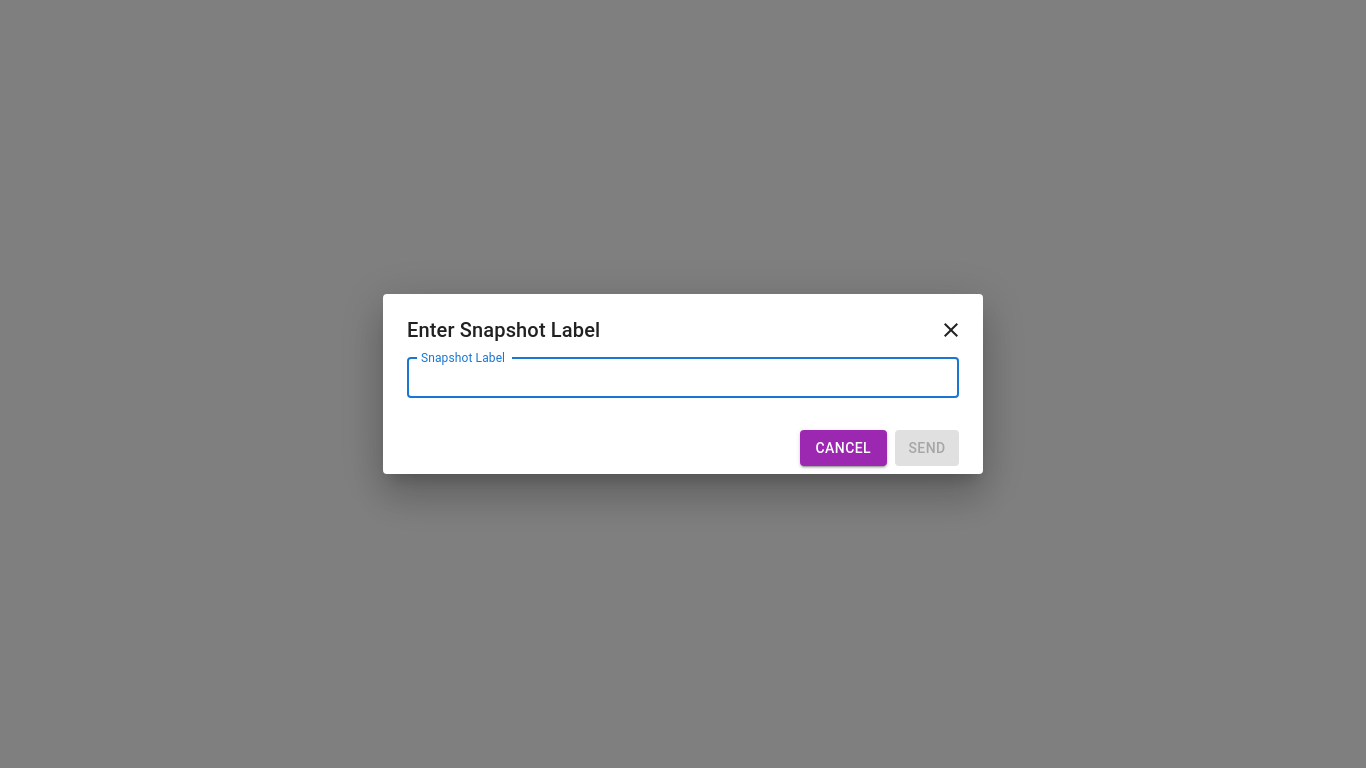
Scenario: EndStatusModal › Snackbar behavior › handles error snackbar with generic message when no error message provided
Type "Generic error test" into the field labelled "Snapshot Label" at [683, 378], box [407,358,959,398]
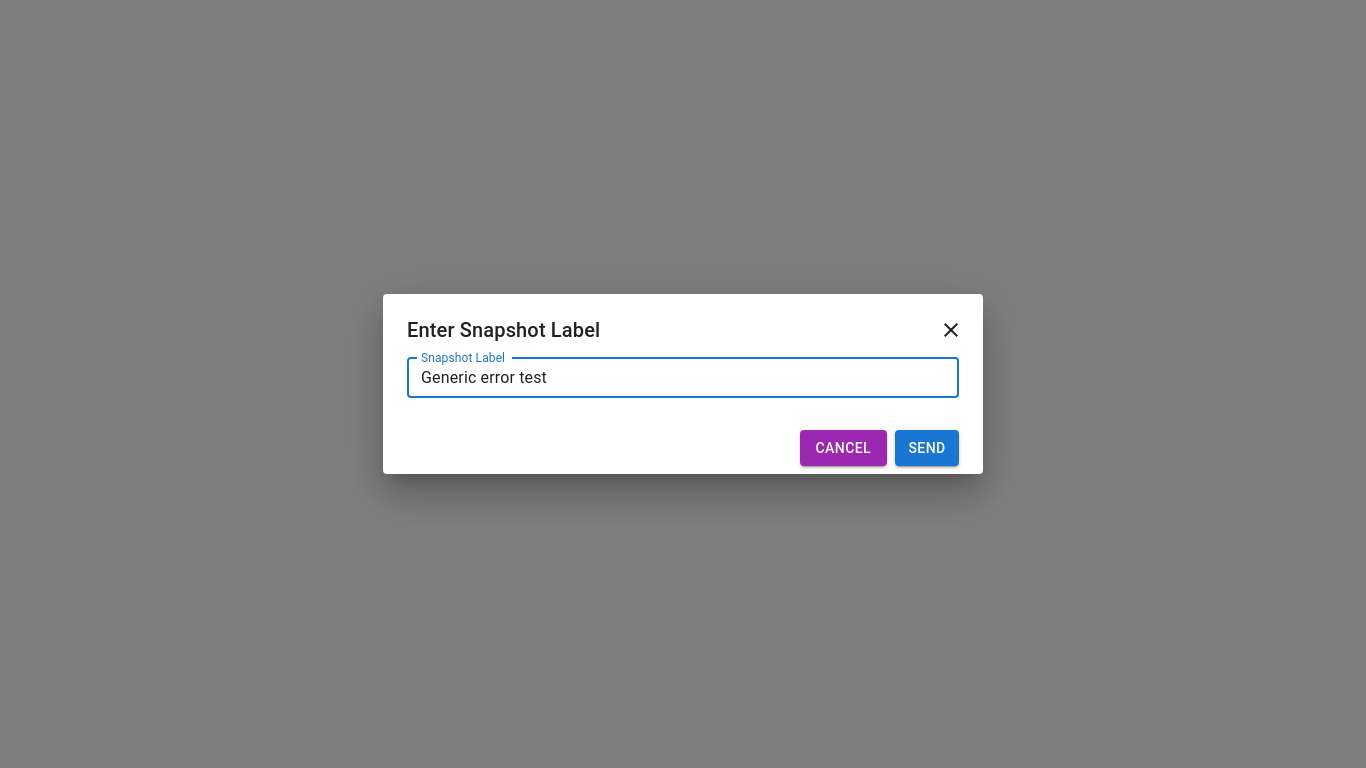
Click the button "Send" at [927, 448], box [895,430,959,466]
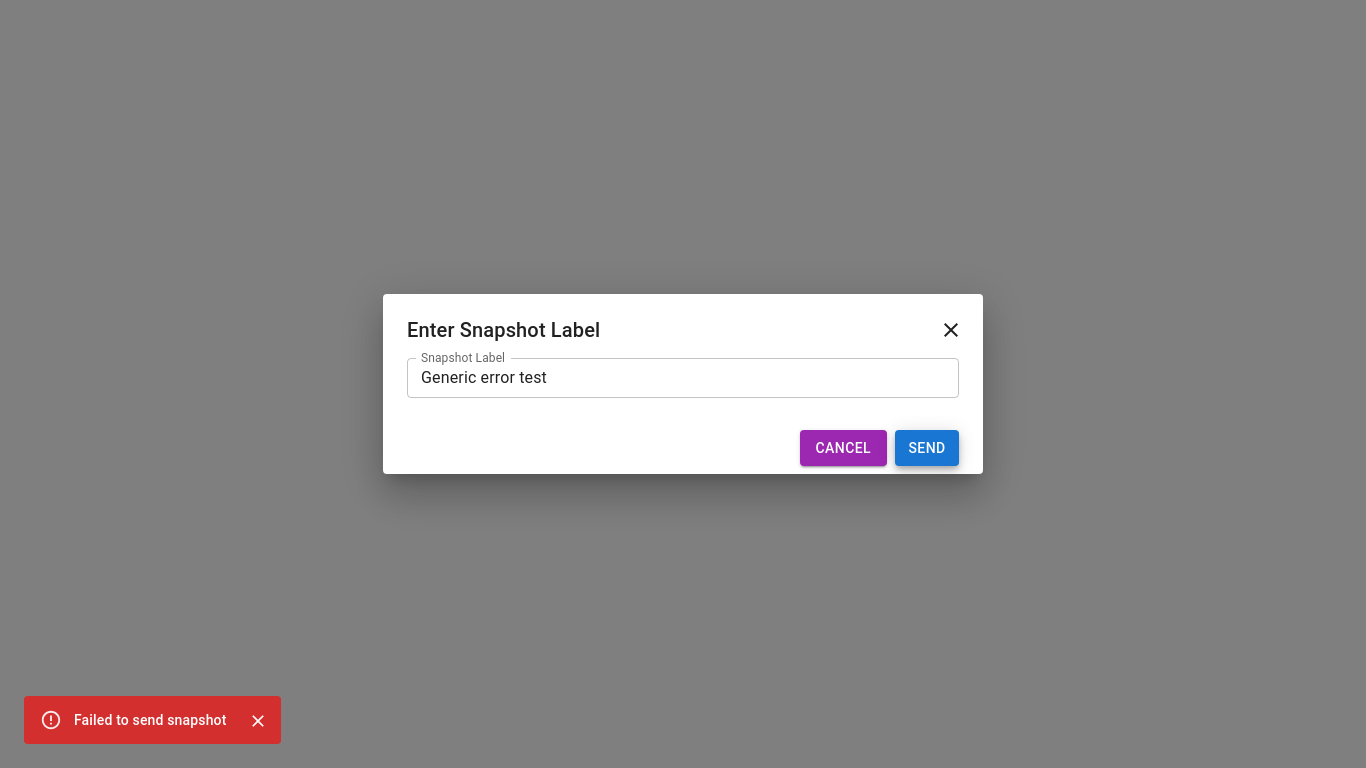
Expected: the text "Failed to send snapshot" is shown, [74,712,226,728]
